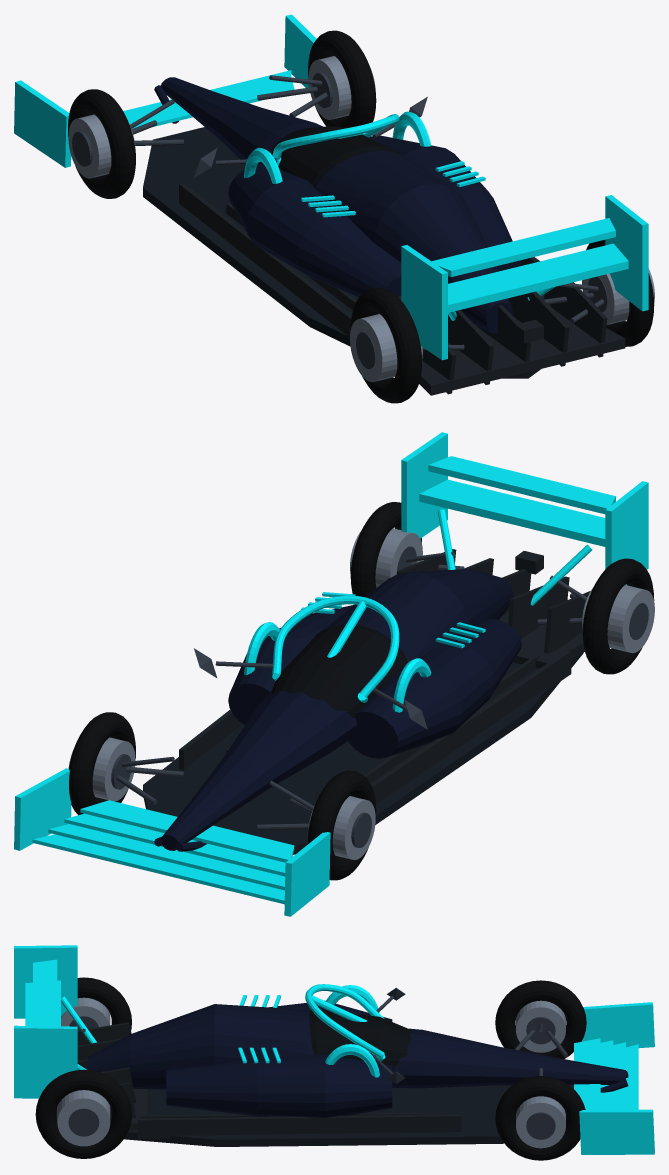
The model's file is eds-g01.glb.
3 renders of one model, top to bottom at view 1: azimuth 30°, elevation 25°; view 2: azimuth 150°, elevation 25°; view 3: azimuth 270°, elevation 25°, orthographic. The views are drawn at different scales.
Visible parts, largest first — view 1: EDS_005_Teardrop_Bodywork, EDS_008_Bridge_Rear_Wing_DRS, EDS_009_Unbranded_Slick_Tires, EDS_014_Stepped_Diffuser, EDS_001_Delta_Floor, EDS_007_Front_Wing, EDS_010_Forged_Rims, EDS_012_Split_Keel_Nose, EDS_002_Venturi_Fences, EDS_003_Cockpit_Tub, EDS_004_Suspension_Mirrors, EDS_006_Cooling_Channels (+2 smaller); view 2: EDS_005_Teardrop_Bodywork, EDS_007_Front_Wing, EDS_008_Bridge_Rear_Wing_DRS, EDS_001_Delta_Floor, EDS_009_Unbranded_Slick_Tires, EDS_012_Split_Keel_Nose, EDS_002_Venturi_Fences, EDS_010_Forged_Rims, EDS_003_Cockpit_Tub, EDS_014_Stepped_Diffuser, EDS_004_Suspension_Mirrors, EDS_013_Swept_Halo (+2 smaller); view 3: EDS_005_Teardrop_Bodywork, EDS_009_Unbranded_Slick_Tires, EDS_007_Front_Wing, EDS_008_Bridge_Rear_Wing_DRS, EDS_001_Delta_Floor, EDS_012_Split_Keel_Nose, EDS_002_Venturi_Fences, EDS_010_Forged_Rims, EDS_003_Cockpit_Tub, EDS_014_Stepped_Diffuser, EDS_011_Carbon_Brakes, EDS_013_Swept_Halo (+2 smaller).
Boxes of the visible parts, left/top/right/bottom form: EDS_005_Teardrop_Bodywork: left=228, top=135, right=521, bottom=334; EDS_008_Bridge_Rear_Wing_DRS: left=401, top=195, right=648, bottom=360; EDS_009_Unbranded_Slick_Tires: left=68, top=30, right=654, bottom=403; EDS_014_Stepped_Diffuser: left=398, top=282, right=625, bottom=395; EDS_001_Delta_Floor: left=143, top=127, right=544, bottom=378; EDS_007_Front_Wing: left=14, top=14, right=316, bottom=167; EDS_010_Forged_Rims: left=68, top=56, right=654, bottom=382; EDS_012_Split_Keel_Nose: left=154, top=77, right=322, bottom=164; EDS_002_Venturi_Fences: left=179, top=183, right=539, bottom=340; EDS_003_Cockpit_Tub: left=271, top=126, right=401, bottom=185; EDS_004_Suspension_Mirrors: left=130, top=75, right=604, bottom=350; EDS_006_Cooling_Channels: left=244, top=111, right=485, bottom=217; EDS_005_Teardrop_Bodywork: left=228, top=569, right=521, bottom=758; EDS_007_Front_Wing: left=14, top=768, right=330, bottom=916; EDS_008_Bridge_Rear_Wing_DRS: left=401, top=432, right=648, bottom=605; EDS_001_Delta_Floor: left=143, top=653, right=583, bottom=854; EDS_009_Unbranded_Slick_Tires: left=69, top=502, right=654, bottom=880; EDS_012_Split_Keel_Nose: left=154, top=690, right=357, bottom=851; EDS_002_Venturi_Fences: left=179, top=650, right=571, bottom=803; EDS_010_Forged_Rims: left=68, top=528, right=654, bottom=859; EDS_003_Cockpit_Tub: left=271, top=624, right=407, bottom=717; EDS_014_Stepped_Diffuser: left=396, top=549, right=590, bottom=668; EDS_004_Suspension_Mirrors: left=116, top=551, right=587, bottom=829; EDS_013_Swept_Halo: left=272, top=595, right=399, bottom=702; EDS_005_Teardrop_Bodywork: left=87, top=1000, right=392, bottom=1118; EDS_009_Unbranded_Slick_Tires: left=35, top=977, right=586, bottom=1160; EDS_007_Front_Wing: left=574, top=1002, right=654, bottom=1154; EDS_008_Bridge_Rear_Wing_DRS: left=14, top=945, right=96, bottom=1098; EDS_001_Delta_Floor: left=124, top=1085, right=573, bottom=1146; EDS_012_Split_Keel_Nose: left=392, top=1028, right=628, bottom=1092; EDS_002_Venturi_Fences: left=138, top=1112, right=461, bottom=1138; EDS_010_Forged_Rims: left=57, top=997, right=565, bottom=1148; EDS_003_Cockpit_Tub: left=309, top=1010, right=411, bottom=1069; EDS_014_Stepped_Diffuser: left=56, top=1022, right=147, bottom=1129; EDS_011_Carbon_Brakes: left=68, top=1016, right=555, bottom=1139; EDS_013_Swept_Halo: left=305, top=984, right=385, bottom=1061.
Size of the model in its own units: 2.09 by 1.09 by 5.05.
